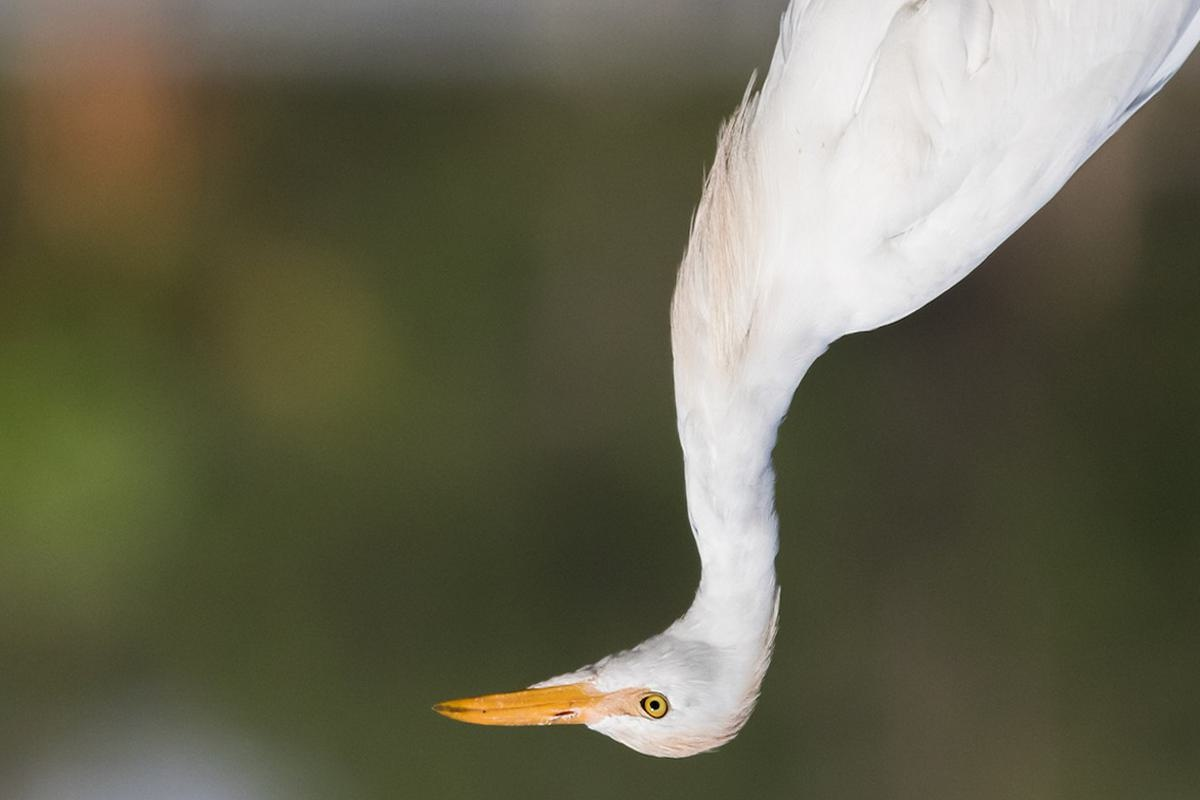egret: (421, 1, 1192, 762)
